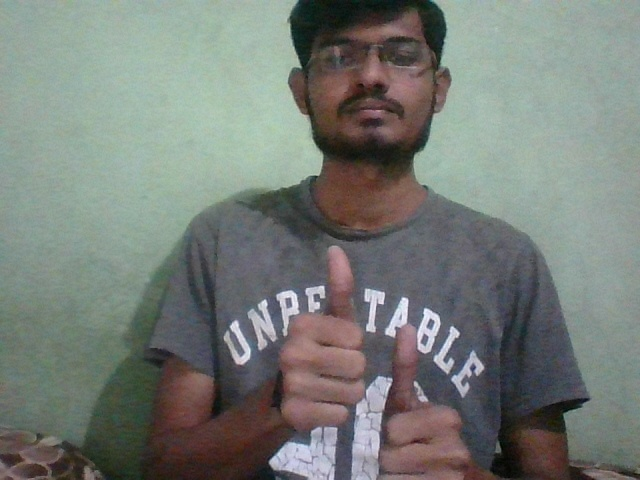which: (255, 244, 493, 479)
